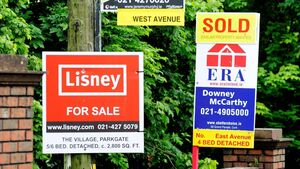property sign: (38, 43, 150, 160), (190, 7, 262, 159)
